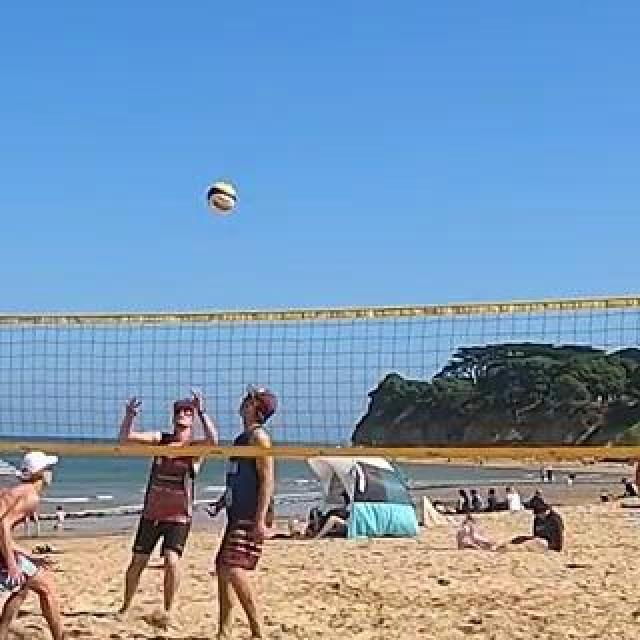volleyball: (208, 186, 238, 214)
